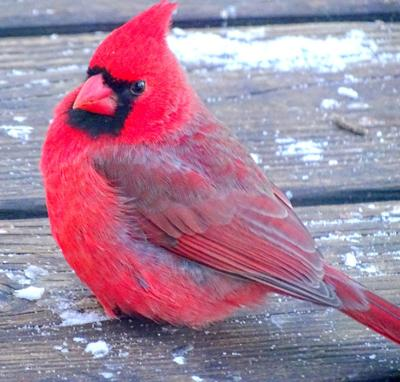bird: (54, 14, 341, 326)
